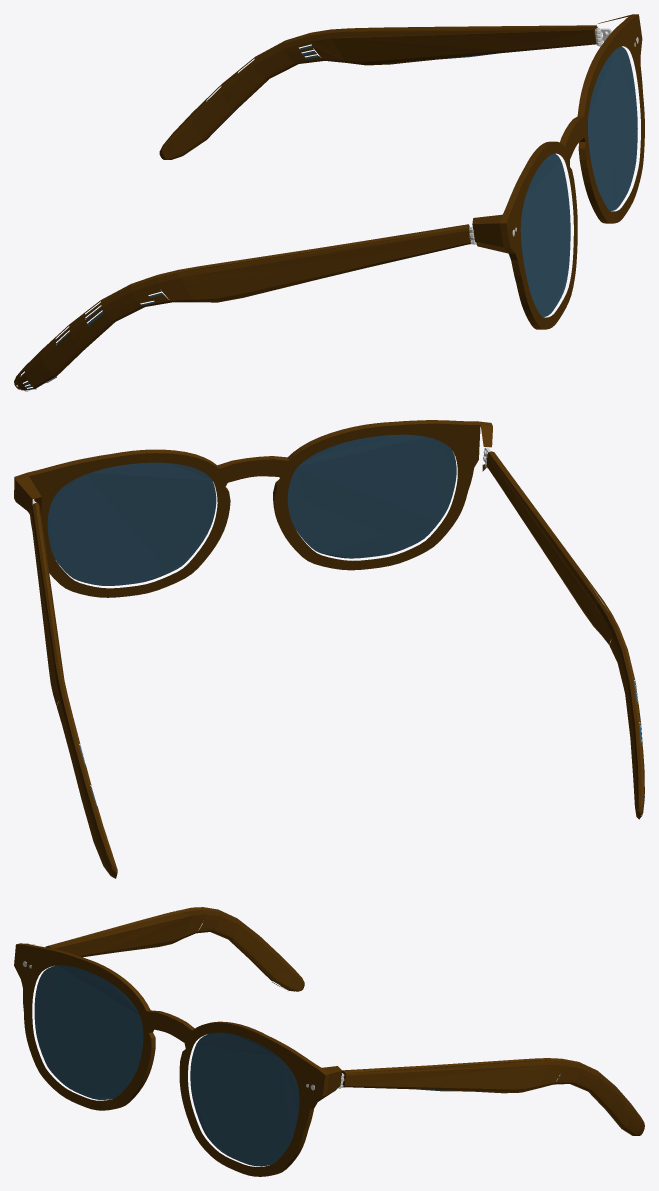
Rendered from just-glasses.glb.
3 views of the same model, one above another, from view 1: azimuth 30°, elevation 25°; view 2: azimuth 150°, elevation 25°; view 3: azimuth 270°, elevation 25° (orthographic). The views are drawn at different scales.
Parts seen in each view (by area): view 1: Glasses_Mesh; view 2: Glasses_Mesh; view 3: Glasses_Mesh.
Part boxes in pixels (box(x1,y1,x2,y2)): Glasses_Mesh: box(14, 14, 644, 391); Glasses_Mesh: box(14, 420, 644, 878); Glasses_Mesh: box(14, 907, 644, 1176).
Bounding box in the file's own units: 5.97 × 2 × 5.97.
